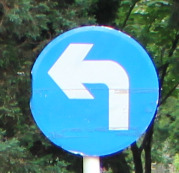left_turn: (30, 26, 160, 157)
